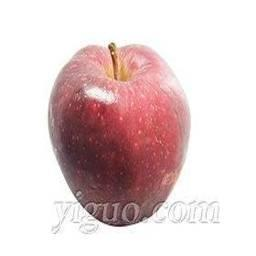apple: (43, 42, 193, 224)
